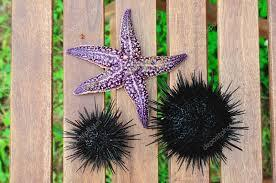urchin: (147, 70, 249, 170), (60, 93, 142, 175)
